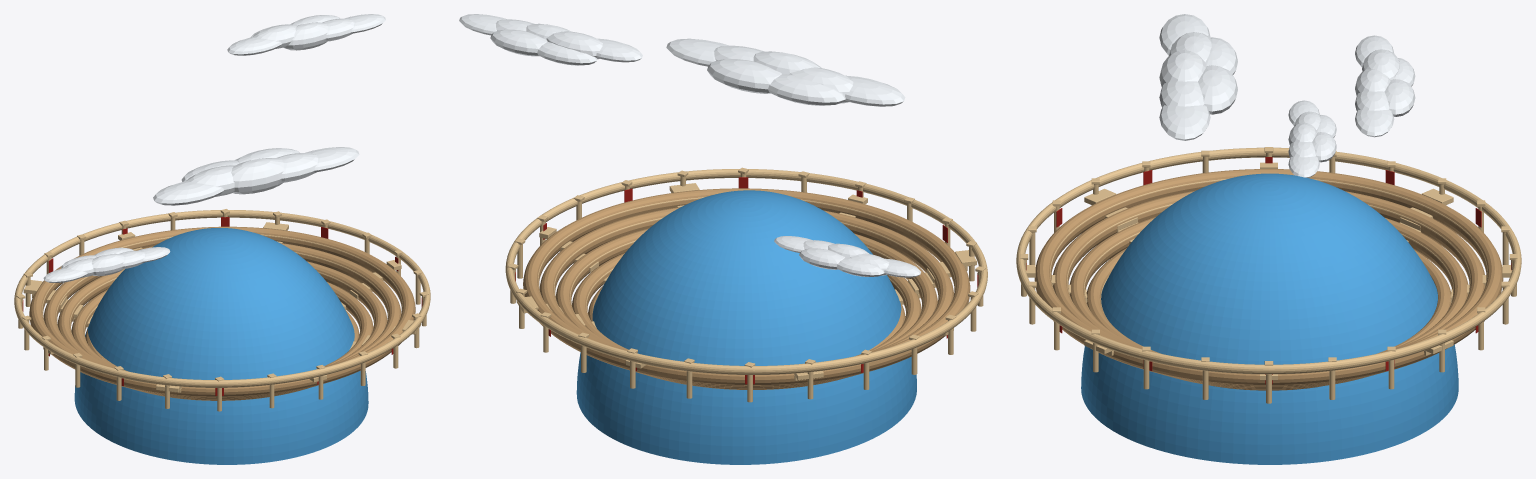
The model's file is Sage_1213.fbx.
3 views of the same model, side by side, from view 1: azimuth 30°, elevation 25°; view 2: azimuth 150°, elevation 25°; view 3: azimuth 270°, elevation 25° (orthographic). The views are drawn at different scales.
Visible parts, largest first — view 1: SKY_DOME, SPECTATOR_TIER_06, OUTER_WALKWAY, SPECTATOR_TIER_05, SPECTATOR_TIER_04, SPECTATOR_TIER_03, CLOUD.016, CLOUD.014, CLOUD.017, CLOUD.009, CLOUD.018, CLOUD.015 (+7 smaller); view 2: SKY_DOME, SPECTATOR_TIER_06, OUTER_WALKWAY, SPECTATOR_TIER_05, SPECTATOR_TIER_04, SPECTATOR_TIER_03, CLOUD.020, CLOUD.019, CLOUD.014, CLOUD.018, CLOUD.013, CLOUD.016 (+9 smaller); view 3: SKY_DOME, SPECTATOR_TIER_06, OUTER_WALKWAY, SPECTATOR_TIER_05, SPECTATOR_TIER_04, SPECTATOR_TIER_03, CLOUD.018, CLOUD.020, CLOUD.016, CLOUD.017, CLOUD.014, CLOUD.011 (+10 smaller).
Part boxes in pixels (x1,y1,x2,y2): SKY_DOME: (74, 228, 368, 464); SPECTATOR_TIER_06: (29, 226, 415, 397); OUTER_WALKWAY: (14, 210, 430, 387); SPECTATOR_TIER_05: (43, 243, 401, 398); SPECTATOR_TIER_04: (57, 261, 387, 399); SPECTATOR_TIER_03: (71, 282, 373, 400); CLOUD.016: (231, 158, 283, 194); CLOUD.014: (153, 181, 224, 205); CLOUD.017: (276, 153, 317, 182); CLOUD.009: (284, 22, 327, 50); CLOUD.018: (305, 147, 359, 172); CLOUD.015: (186, 165, 235, 196); SKY_DOME: (576, 190, 916, 464); SPECTATOR_TIER_06: (523, 188, 970, 385); OUTER_WALKWAY: (505, 169, 987, 374); SPECTATOR_TIER_05: (539, 207, 953, 387); SPECTATOR_TIER_04: (555, 228, 937, 388); SPECTATOR_TIER_03: (571, 253, 921, 389); CLOUD.020: (707, 59, 781, 93); CLOUD.019: (768, 74, 845, 105); CLOUD.014: (845, 75, 905, 106); CLOUD.018: (666, 38, 728, 66); CLOUD.013: (490, 29, 547, 56); CLOUD.016: (753, 51, 821, 74); SKY_DOME: (1081, 173, 1458, 464); SPECTATOR_TIER_06: (1034, 169, 1503, 385); OUTER_WALKWAY: (1016, 147, 1521, 374); SPECTATOR_TIER_05: (1052, 190, 1485, 386); SPECTATOR_TIER_04: (1069, 217, 1468, 388); SPECTATOR_TIER_03: (1086, 248, 1451, 389); CLOUD.018: (1159, 105, 1210, 140); CLOUD.020: (1198, 65, 1237, 114); CLOUD.016: (1159, 49, 1206, 87); CLOUD.017: (1159, 81, 1204, 107); CLOUD.014: (1159, 14, 1210, 55); CLOUD.011: (1355, 110, 1394, 137).
Bounding box in the file's own units: 24966 × 19448 × 22708.
